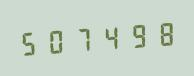eight: (148, 16, 173, 50)
five: (17, 25, 42, 59)
four: (96, 20, 121, 54)
nine: (122, 18, 147, 52)
seven: (70, 21, 95, 56)
zero: (43, 23, 68, 57)
